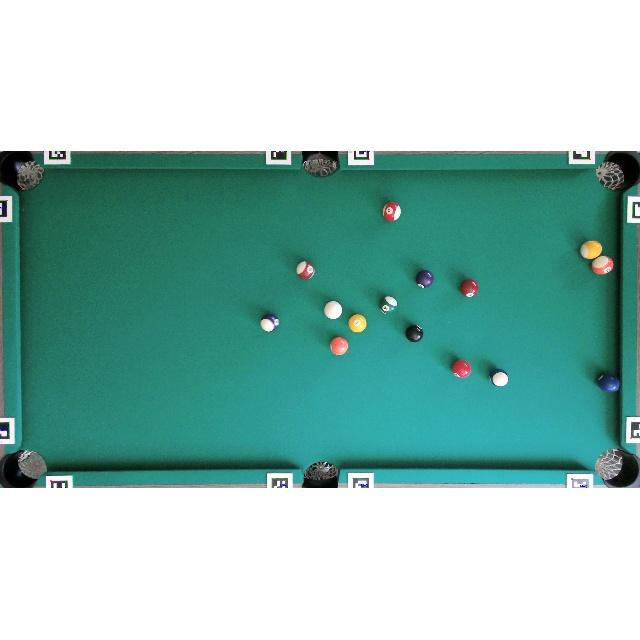cue ball: (324, 300, 342, 320)
other: (591, 255, 615, 275), (598, 372, 620, 393), (580, 240, 602, 260), (382, 201, 402, 222), (489, 368, 510, 388), (378, 295, 398, 316), (296, 260, 316, 280), (452, 359, 472, 379), (348, 313, 367, 333), (405, 324, 424, 343), (330, 336, 348, 356), (460, 279, 480, 297), (416, 269, 434, 289), (260, 314, 279, 332)
